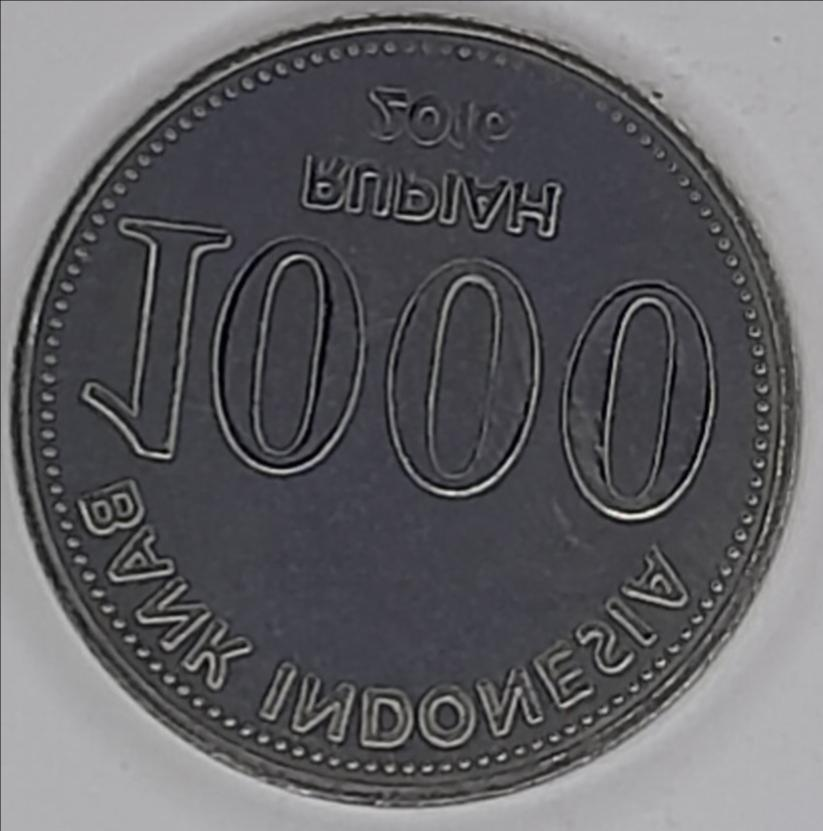coin_1000_e2016: (14, 16, 812, 831)
